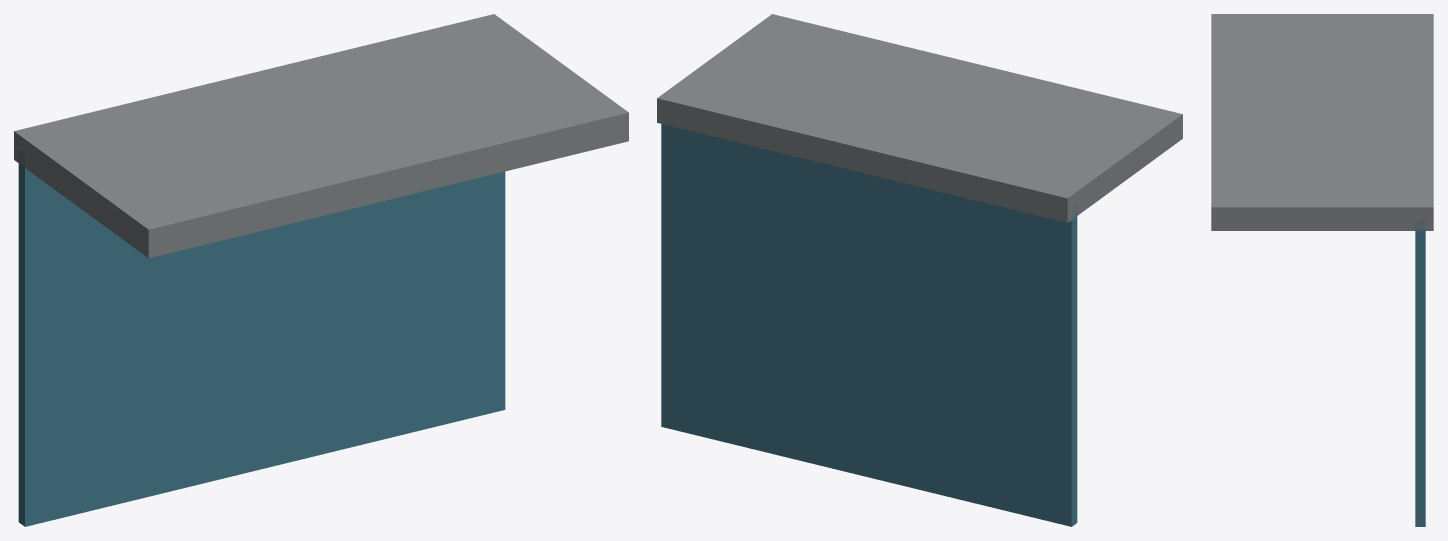
Rendered from Prop_Street_042.glb.
The picture shows the model from 3 angles, left to right: view 1: azimuth 30°, elevation 25°; view 2: azimuth 150°, elevation 25°; view 3: azimuth 270°, elevation 25°; orthographic projection. The views are drawn at different scales.
Visible parts, largest first — view 1: Prop_Street_042; view 2: Prop_Street_042; view 3: Prop_Street_042.
Boxes of the visible parts, x1,y1,x2,y2 form: Prop_Street_042: (14,14,628,526); Prop_Street_042: (657,14,1182,526); Prop_Street_042: (1211,14,1433,526).
Bounding box in the file's own units: 3.5 × 2.7 × 1.7.
